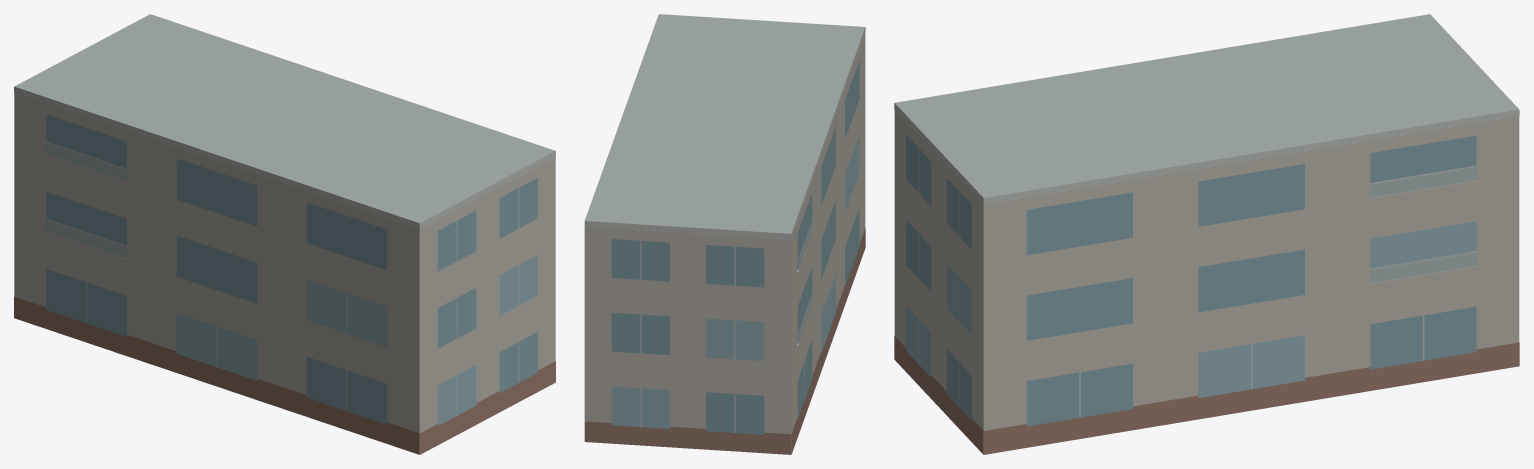
File: survey-upis-32698472.glb
3 renders of one model, left to right at view 1: azimuth 30°, elevation 25°; view 2: azimuth 150°, elevation 25°; view 3: azimuth 270°, elevation 25°, orthographic. The views are drawn at different scales.
Visible parts, largest first — view 1: survey-upis-32698472.tmp; view 2: survey-upis-32698472.tmp; view 3: survey-upis-32698472.tmp.
Part boxes in pixels (x1,y1,x2,y2): survey-upis-32698472.tmp: (14,14,555,454); survey-upis-32698472.tmp: (584,14,865,454); survey-upis-32698472.tmp: (894,14,1519,454).
Size of the model in its own units: 14.08 by 9.15 by 20.19.
